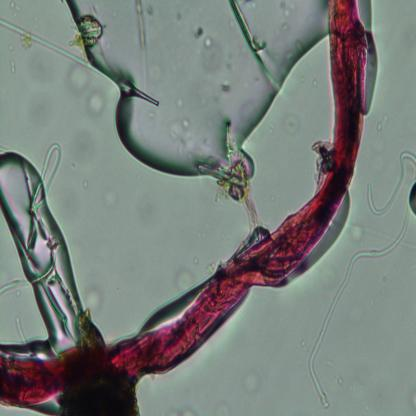Air bubble: (66, 0, 327, 183), (0, 155, 95, 349)
Background material: (192, 135, 268, 246), (62, 340, 147, 416), (227, 0, 276, 91), (129, 0, 150, 56), (119, 79, 162, 105), (79, 12, 106, 50), (170, 119, 196, 153), (66, 62, 95, 91), (81, 281, 105, 314), (172, 266, 199, 294), (236, 367, 262, 394), (278, 109, 298, 136), (88, 93, 106, 115), (278, 0, 289, 33), (406, 180, 416, 216), (8, 0, 23, 18), (18, 34, 32, 51), (193, 26, 207, 41), (9, 59, 17, 74)
Cotton: (0, 0, 368, 409)
Glass filter fibre: (306, 146, 416, 408), (0, 15, 87, 73), (40, 141, 62, 191), (2, 277, 30, 294), (15, 314, 27, 346)
